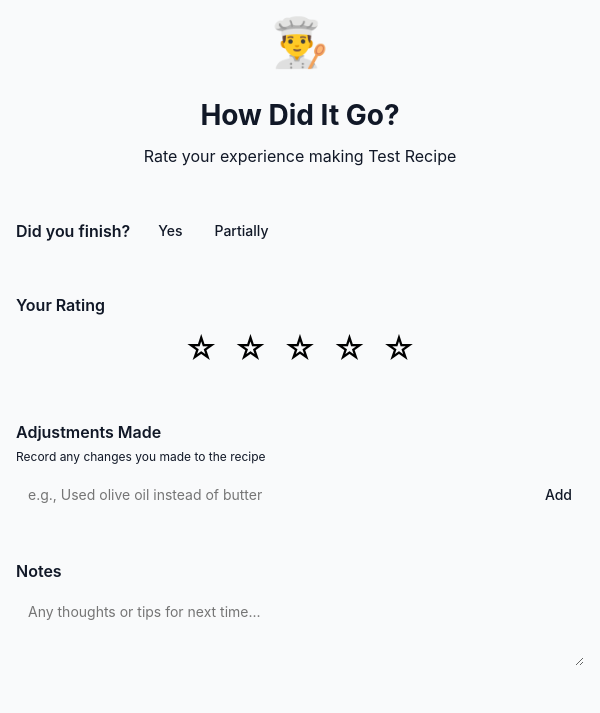
CookCompletion › star rating selection works
Expected: the text "Great!" is not shown
// Click the 4th star
Click the 4th button "☆" at (349, 348), box [329,325,370,372]
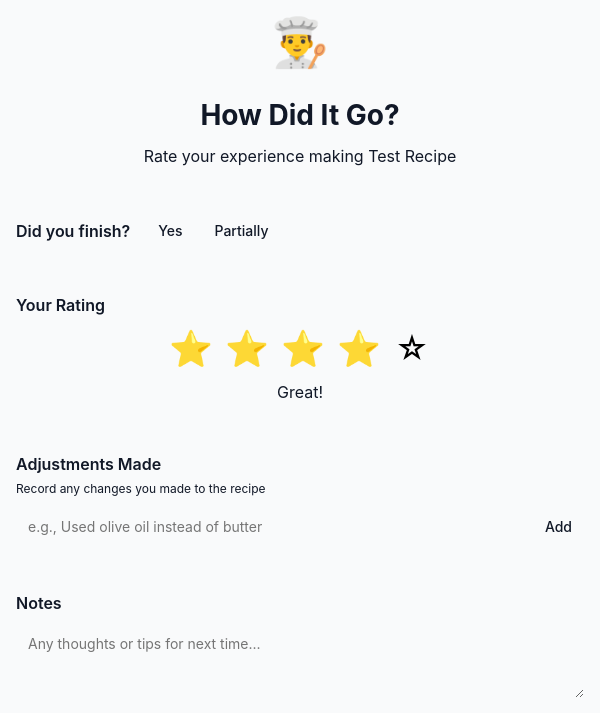
Expected: the text "Great!" is shown, [277,382,323,402]
